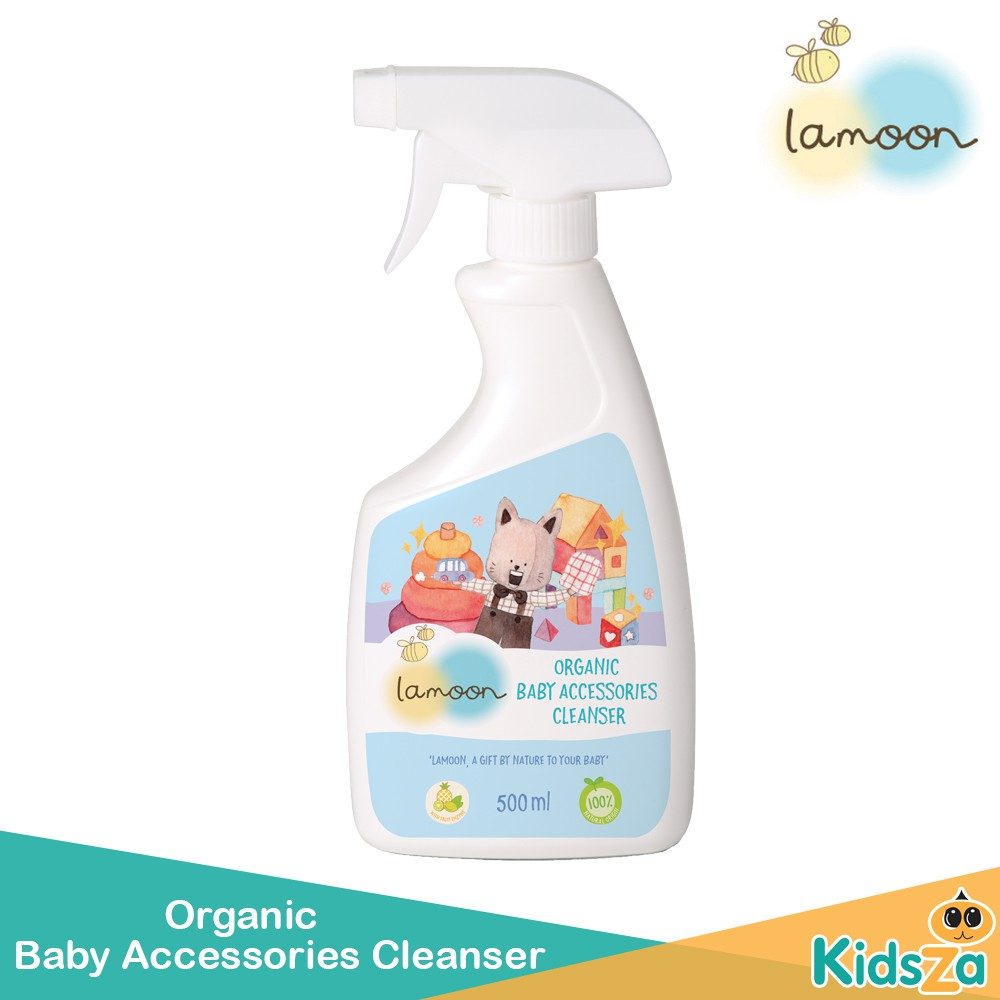Cleaning_solution: (327, 49, 710, 873)
